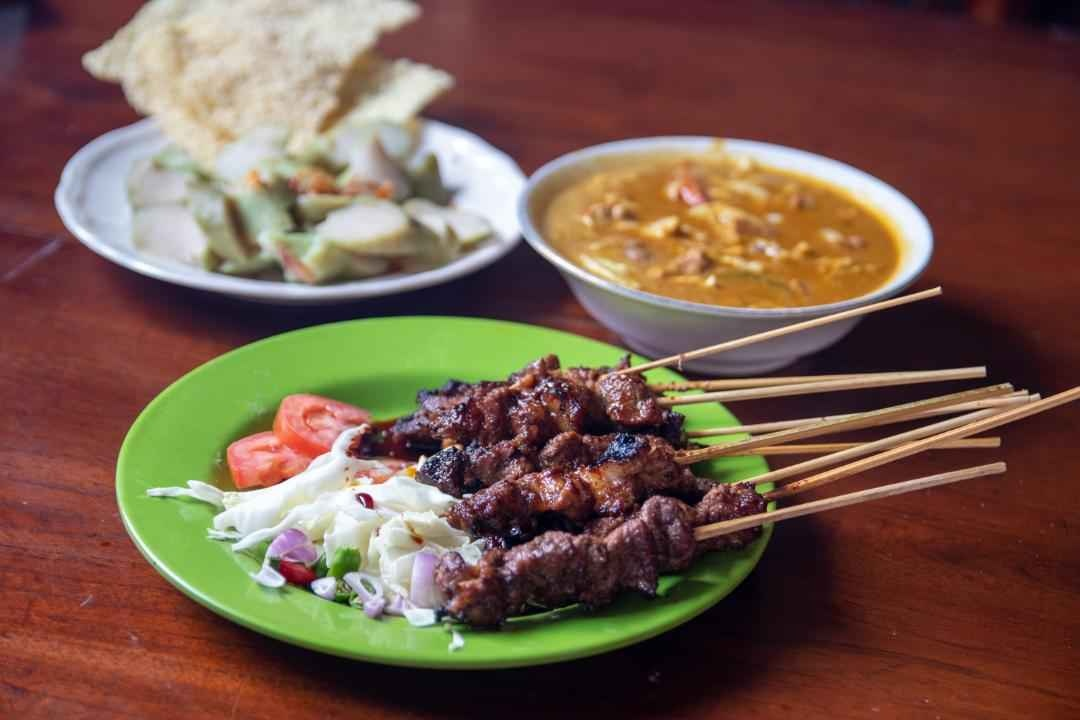sate: (410, 280, 1080, 615)
